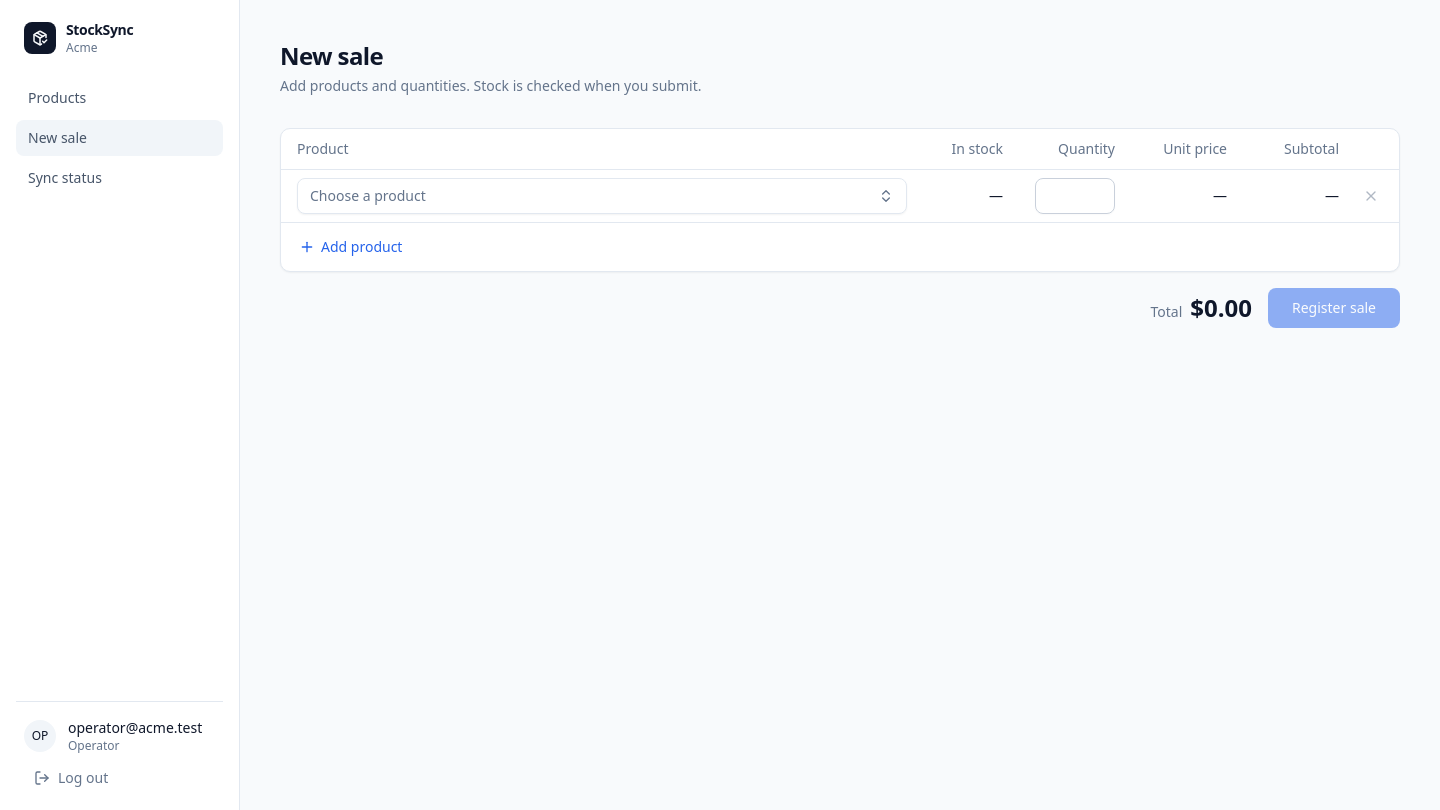
Test: new sale form › shows the picked product with its stock from GET /products/:id
Expected: the heading "New sale" is shown, left=280, top=39, right=383, bottom=72
Click the dropdown labelled "Choose a product" at [368, 195], box left=297, top=178, right=907, bottom=214
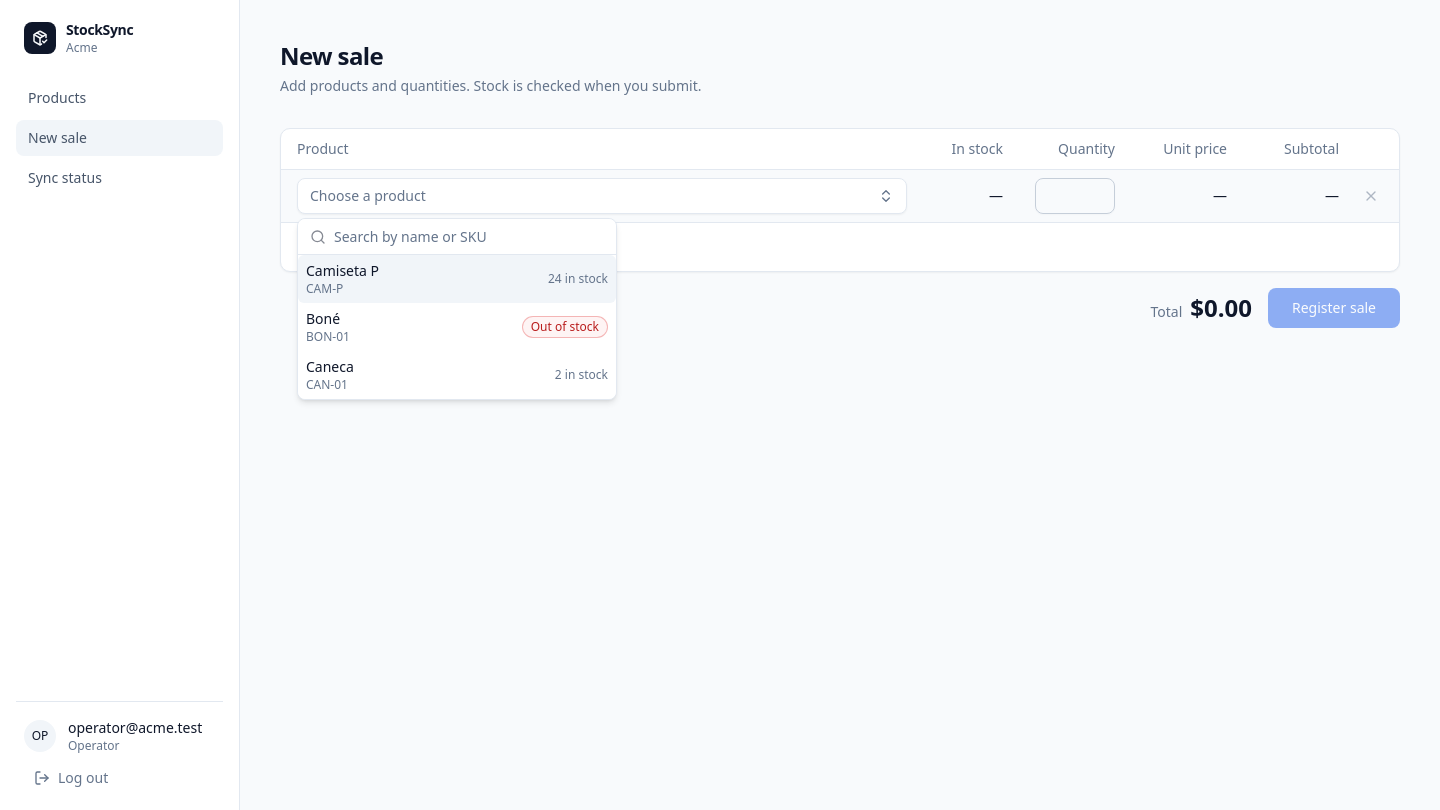
Type "Cam" into the dropdown named "Search products" at [469, 236], box left=334, top=216, right=604, bottom=256
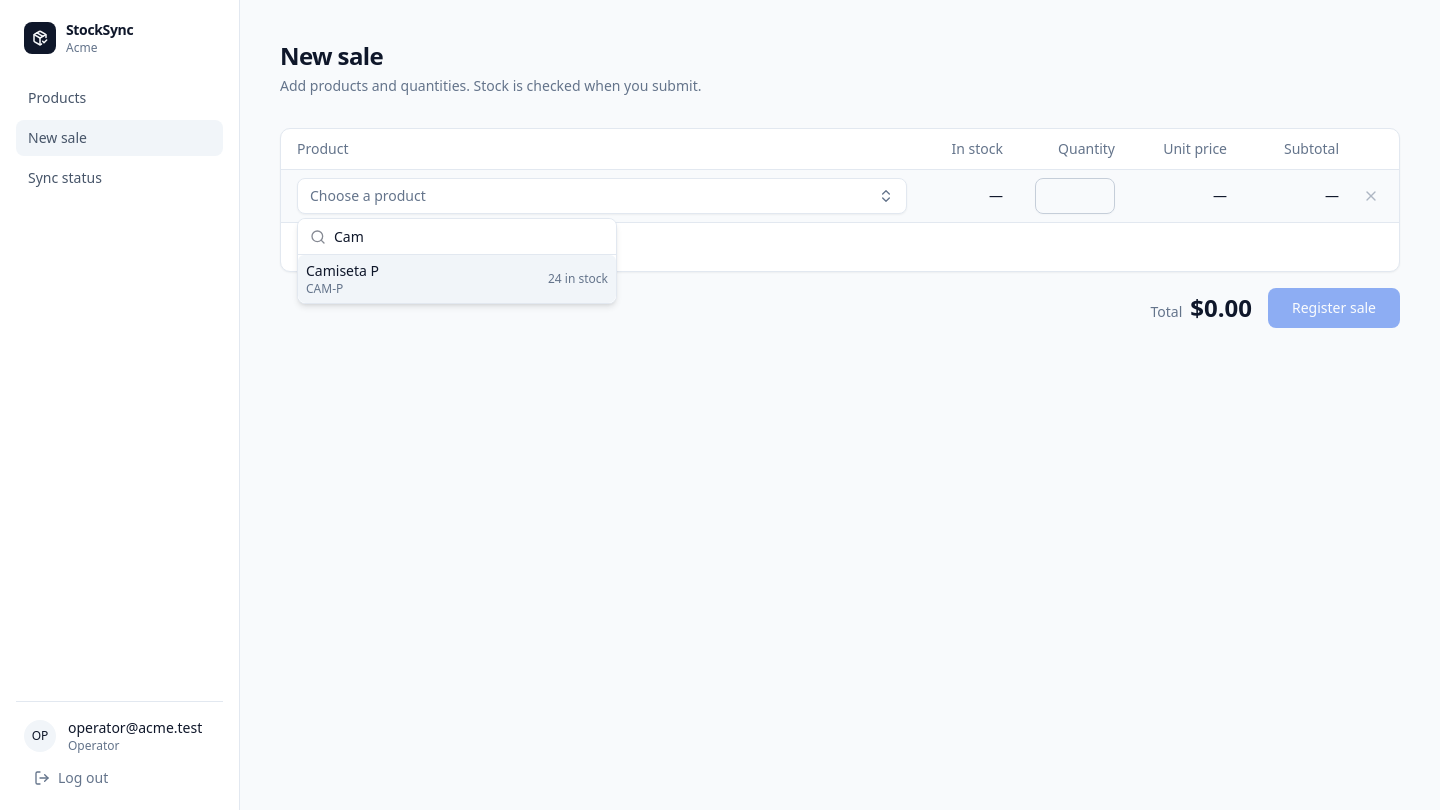
Click the option "Camiseta P CAM-P 24 in stock" at [343, 270], box left=298, top=255, right=616, bottom=303
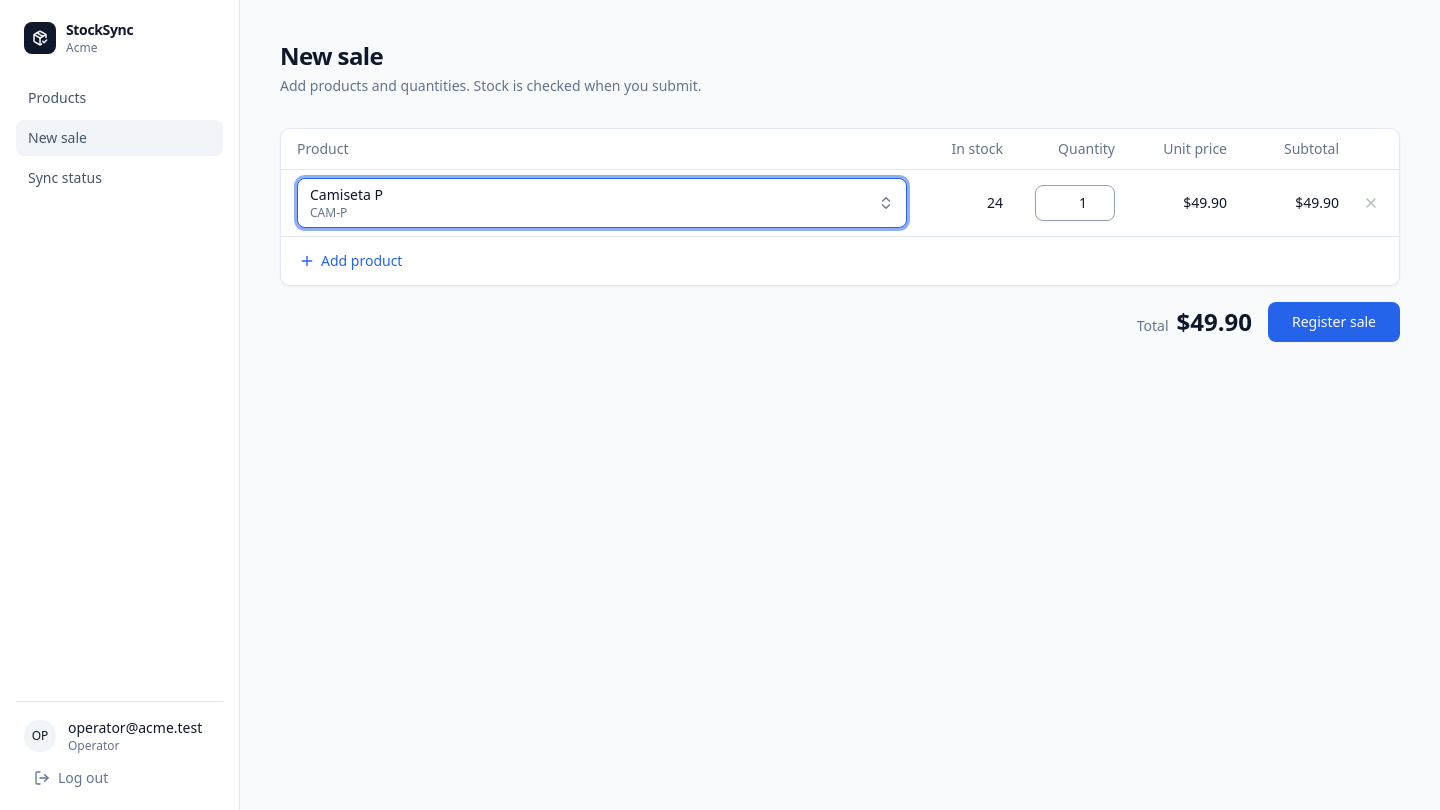
Now the number field named "Quantity, line 1" holds "1", box left=1035, top=184, right=1115, bottom=220
